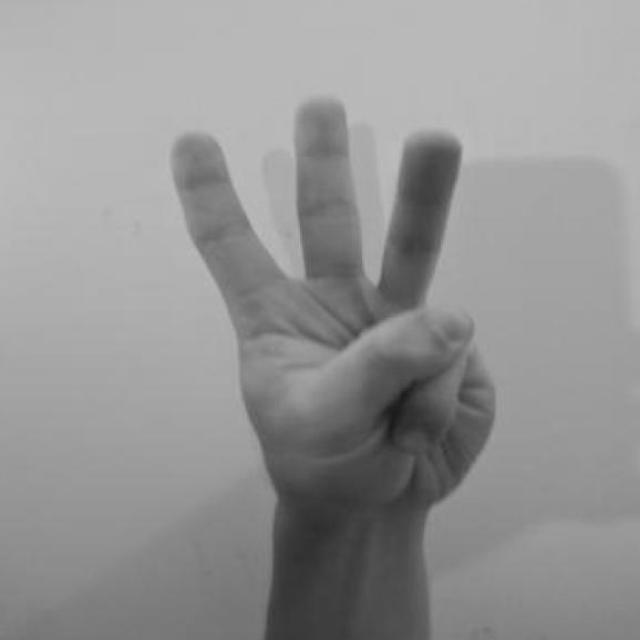W: (152, 87, 519, 542)
